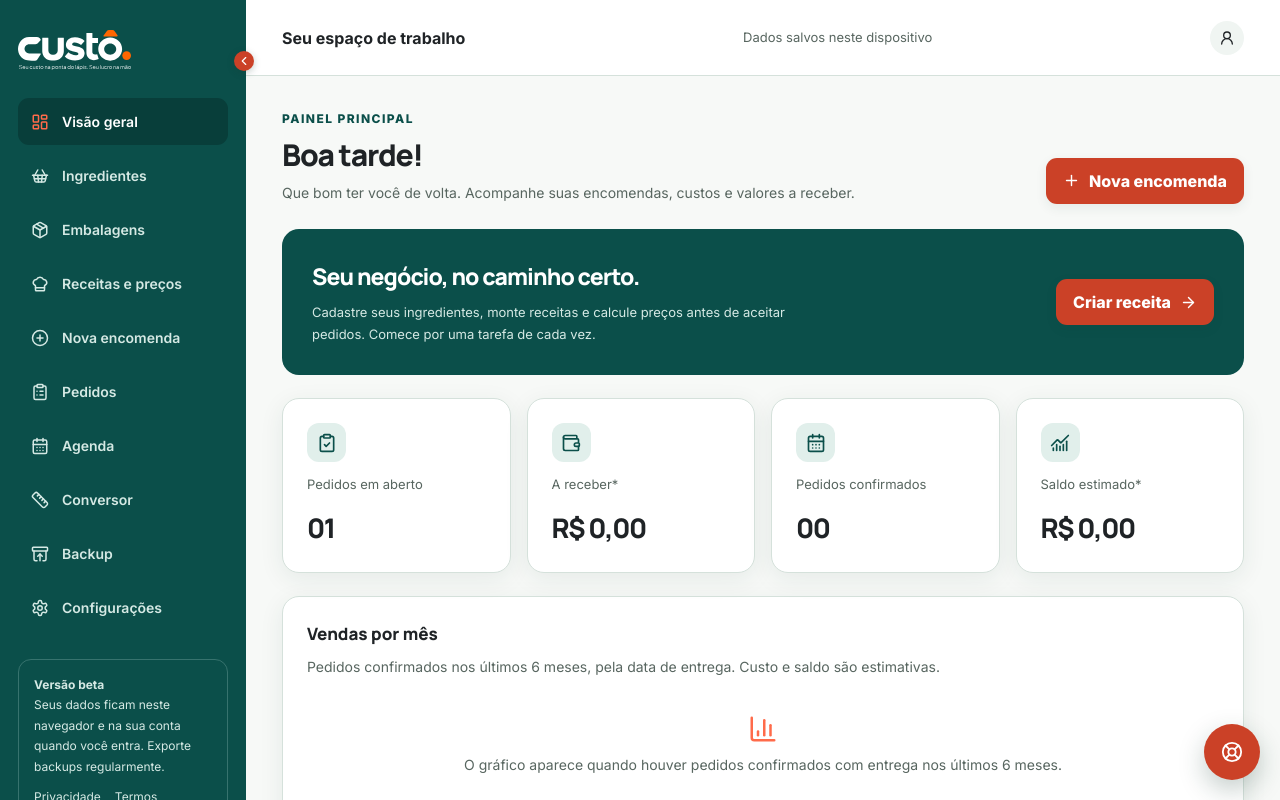
Scenario: Lista, detalhes e recebimento › editar a encomenda mostra os itens existentes e preserva o histórico
Later steps or results of the test are not shown.
Click the button "Pedidos" at coordinates (123, 392), box left=18, top=368, right=228, bottom=415
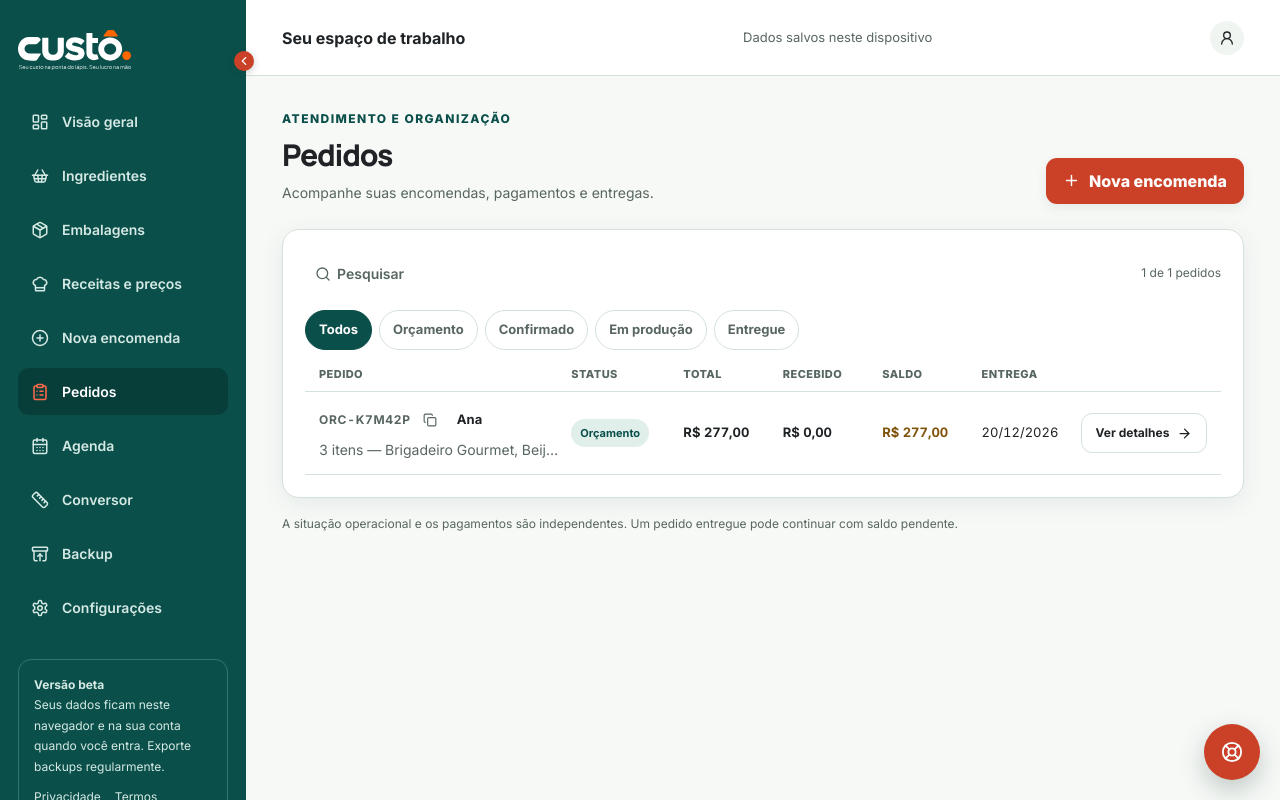
Click the button "Ver detalhes" at coordinates (1144, 433), box left=1081, top=413, right=1207, bottom=453
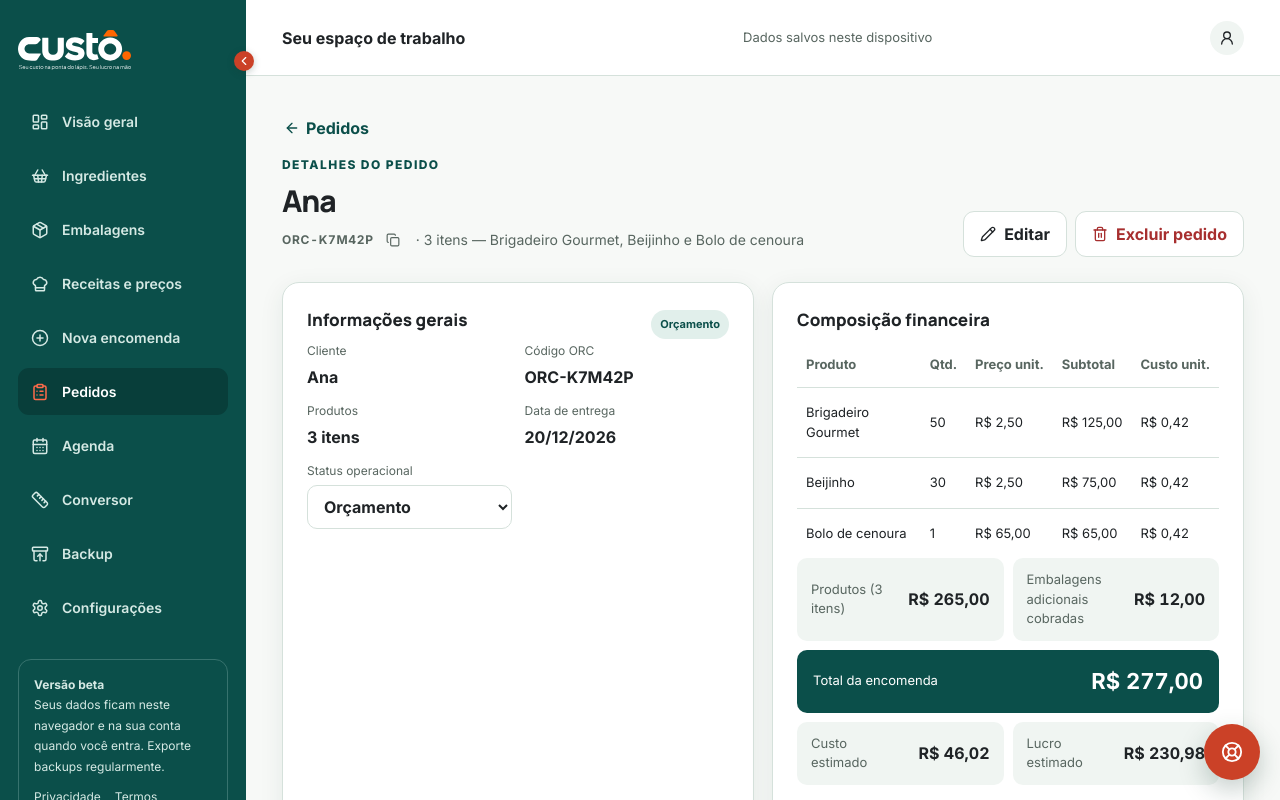
Click the button "Editar" at coordinates (1015, 234), box left=963, top=211, right=1067, bottom=257
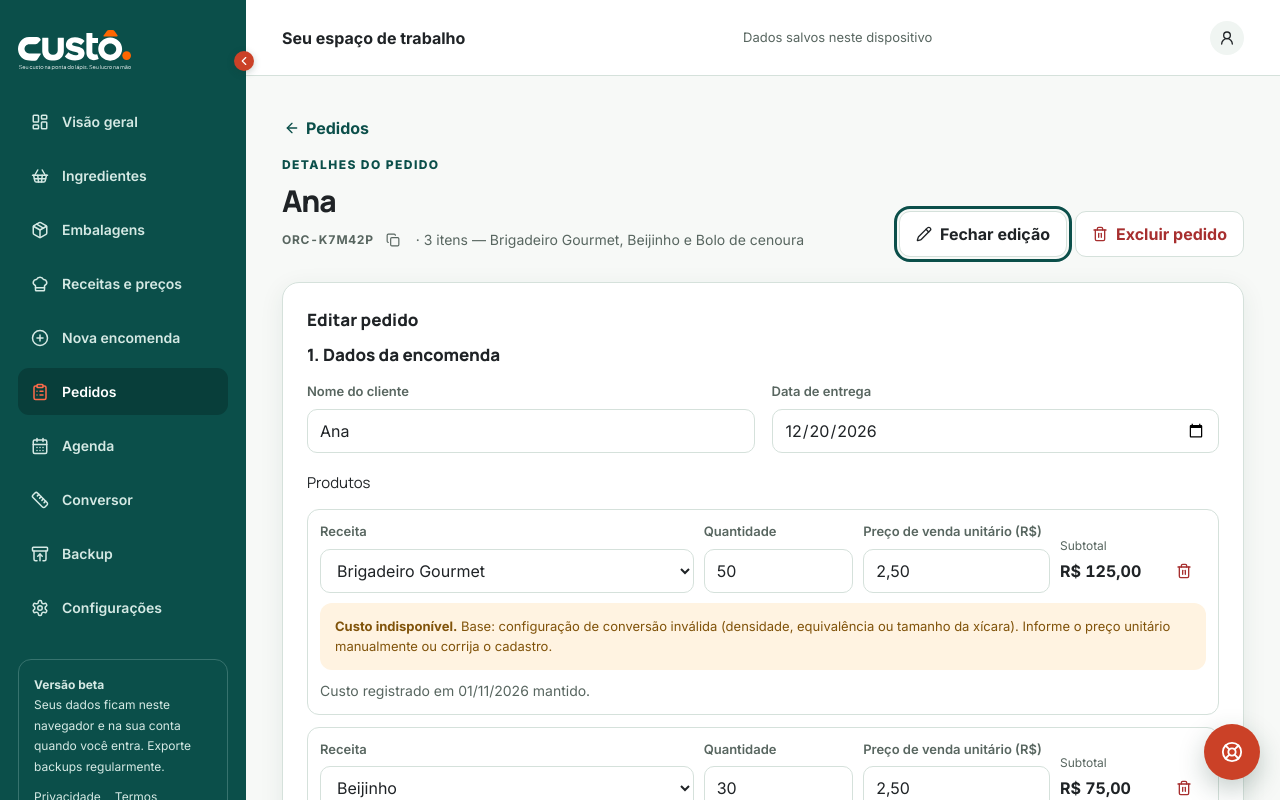
Result: the number of list items named "Produto 1" is 3
Result: the text "Custo registrado em 01/11/2026 mantido." is shown 3 times
